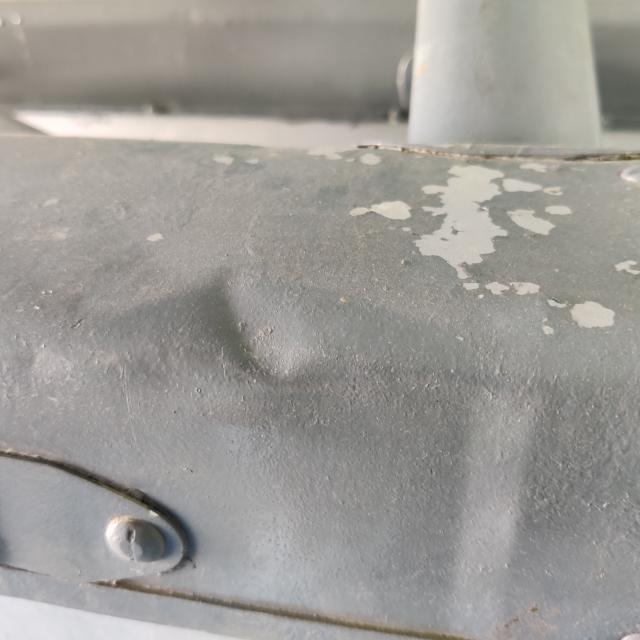dent: (189, 257, 323, 410)
paint-off: (341, 148, 578, 300), (540, 288, 621, 351)
